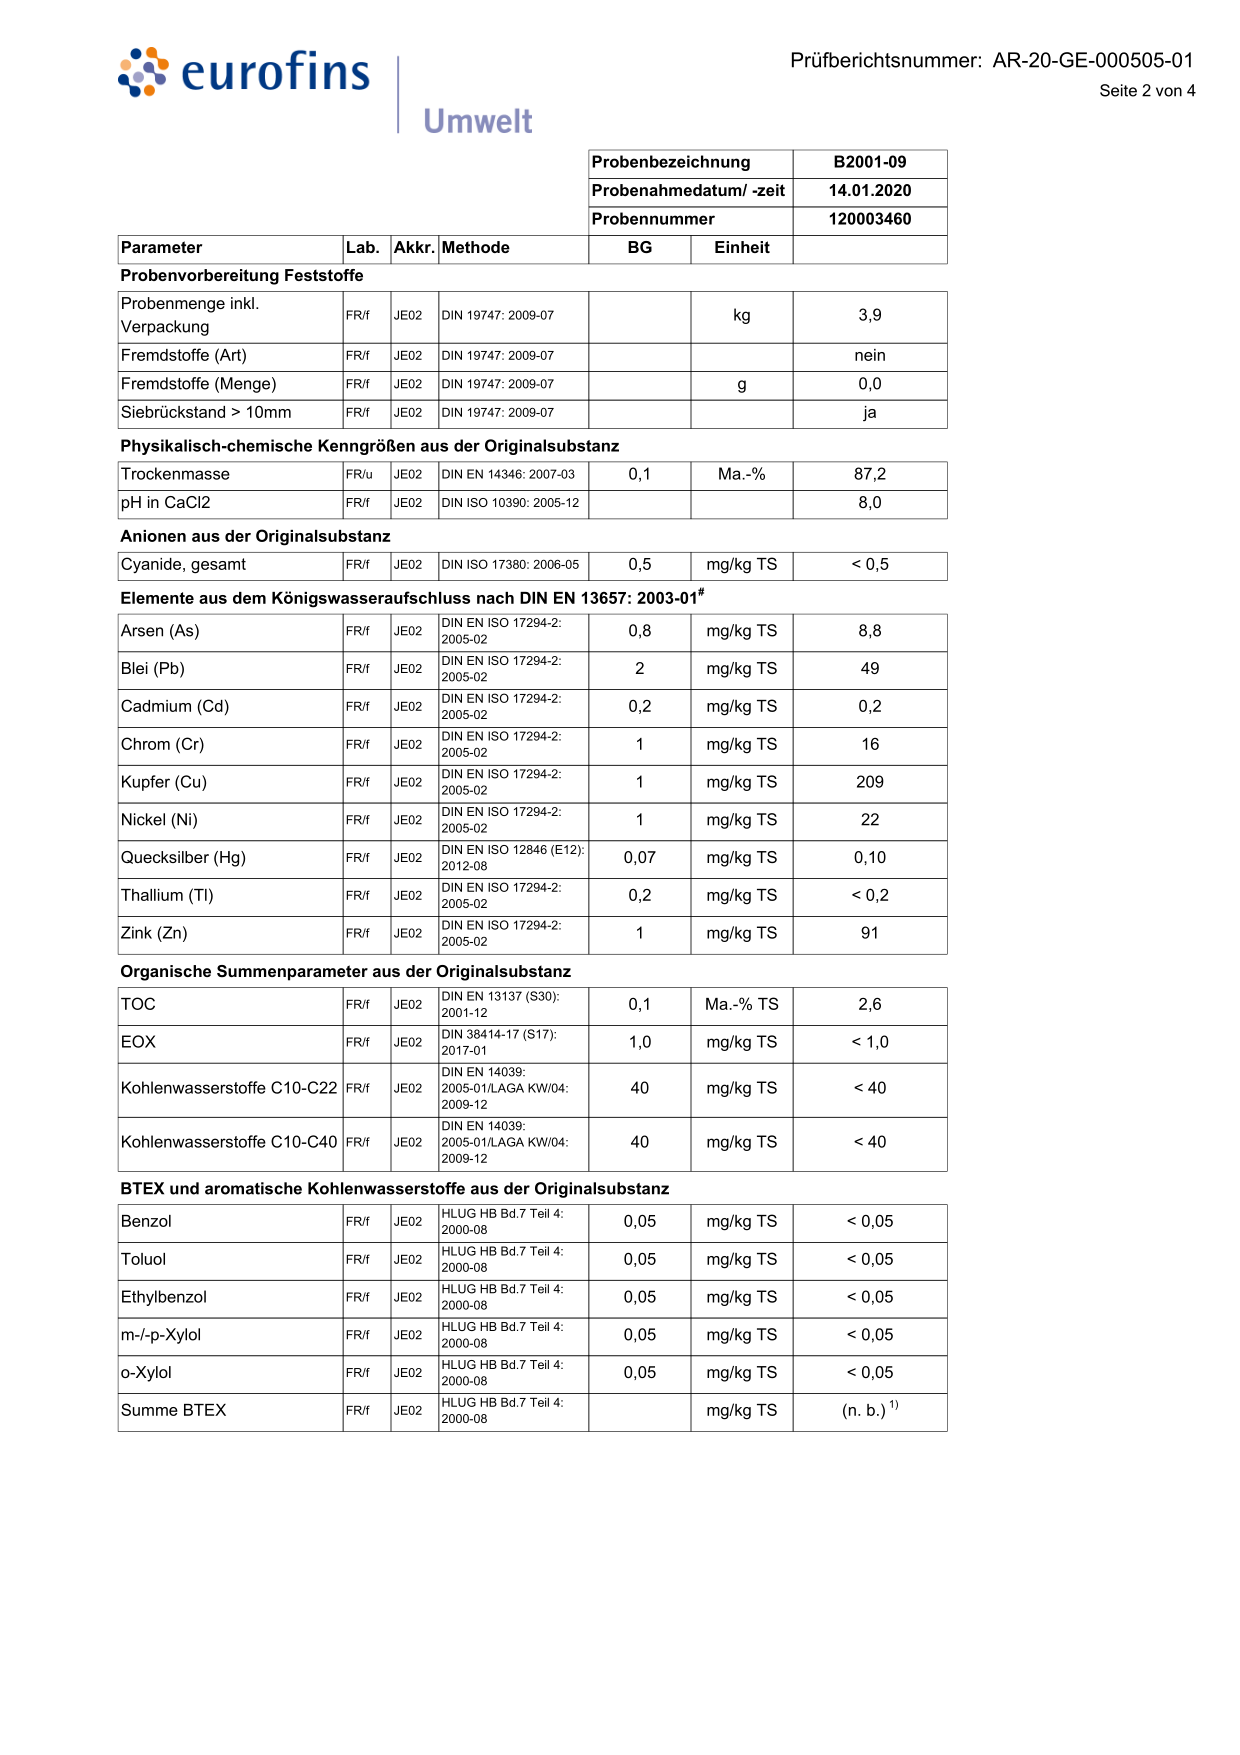table: (103, 608, 958, 957), (99, 1200, 961, 1444), (101, 982, 960, 1177), (101, 288, 951, 436), (101, 460, 955, 518), (111, 543, 958, 584)
